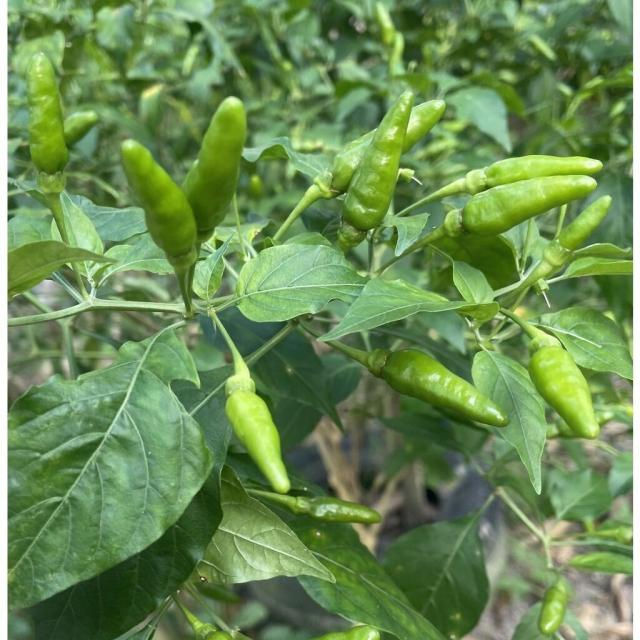green chilli: (382, 349, 510, 428), (121, 140, 197, 273), (182, 96, 247, 240), (462, 174, 598, 235), (486, 155, 604, 187)
